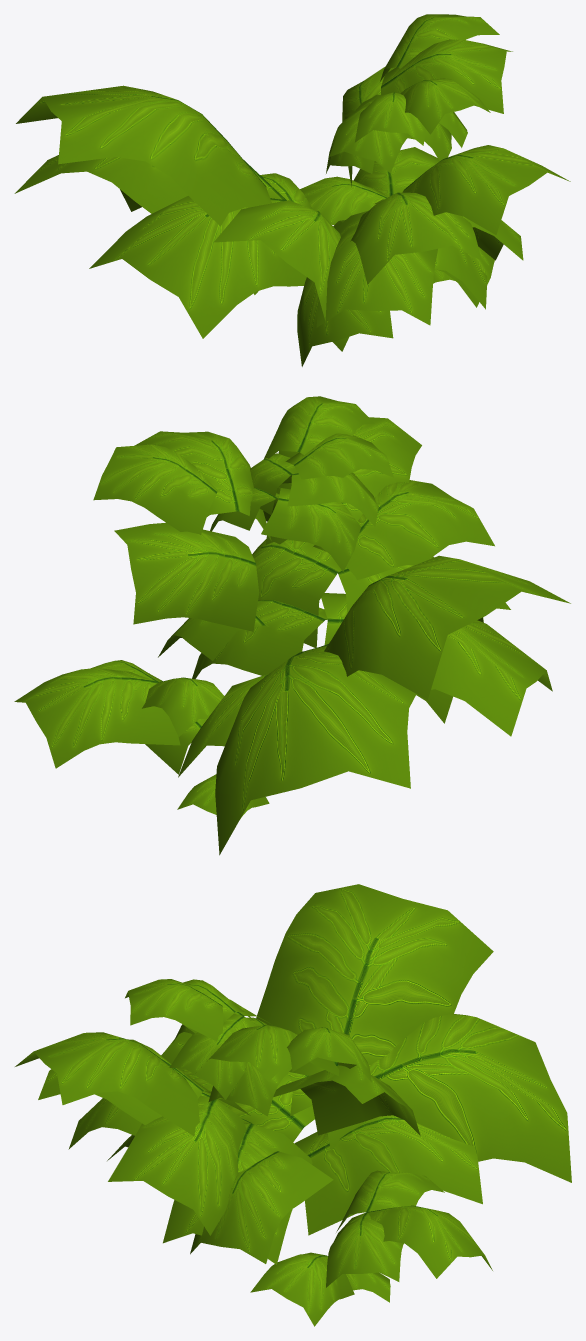
Rendered from BambooSet_part_41.fbx.
3 views of the same model, one above another, from view 1: azimuth 30°, elevation 25°; view 2: azimuth 150°, elevation 25°; view 3: azimuth 270°, elevation 25° (orthographic). The views are drawn at different scales.
Parts seen in each view (by area): view 1: Object_68.001; view 2: Object_68.001; view 3: Object_68.001.
Boxes of the visible parts, x1=… form: Object_68.001: x1=14, y1=14, x2=570, y2=366; Object_68.001: x1=14, y1=396, x2=570, y2=855; Object_68.001: x1=15, y1=884, x2=571, y2=1326.
Bounding box in the file's own units: 1171 × 767 × 1223.
